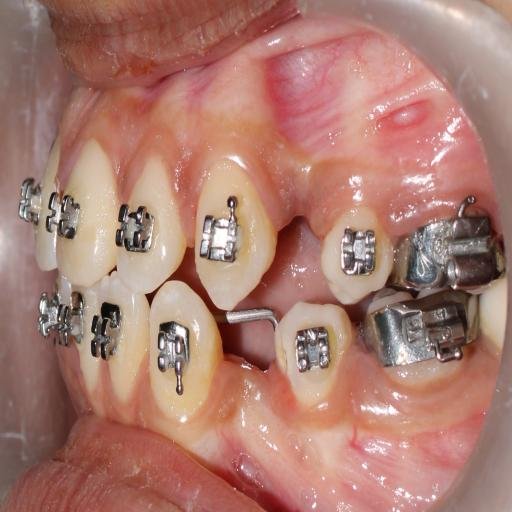correct_brace: (322, 206, 390, 302), (198, 208, 242, 270), (117, 197, 157, 259), (48, 185, 83, 242)
incorrect_brace: (119, 164, 187, 290), (338, 222, 379, 278)
